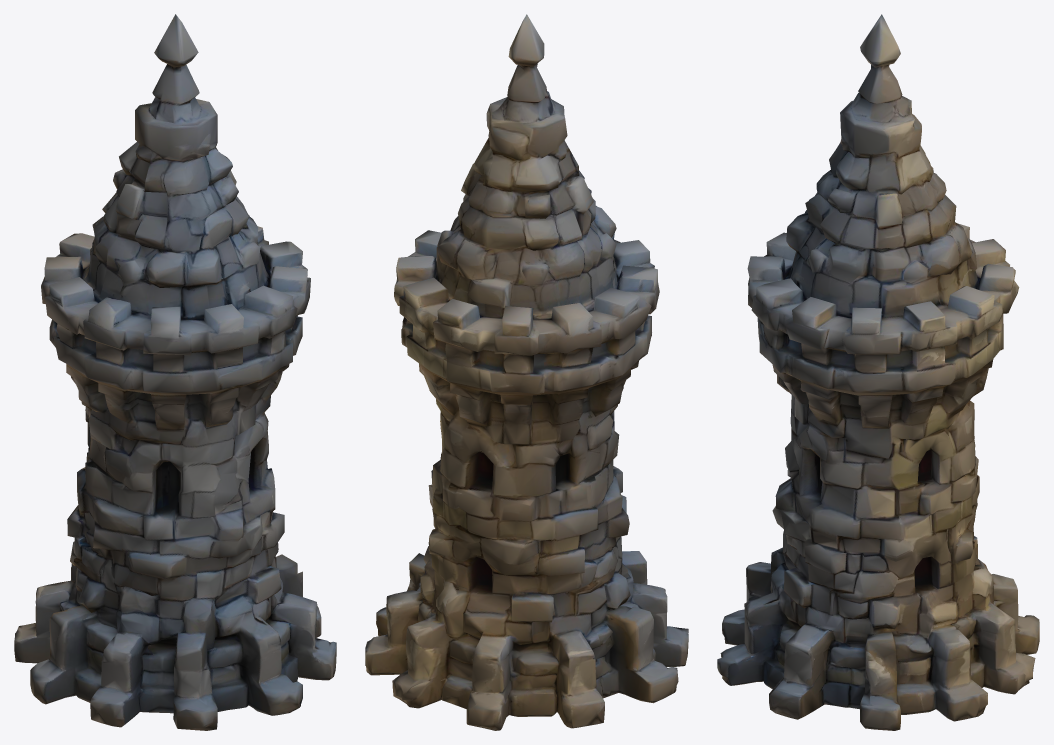
The model's file is castle_tower.glb.
3 views of the same model, side by side, from view 1: azimuth 30°, elevation 25°; view 2: azimuth 150°, elevation 25°; view 3: azimuth 270°, elevation 25° (orthographic).
Visible parts, largest first — view 1: tripo_node_b87c33a7-1003-4dfb-933d-77ecf8573fb4; view 2: tripo_node_b87c33a7-1003-4dfb-933d-77ecf8573fb4; view 3: tripo_node_b87c33a7-1003-4dfb-933d-77ecf8573fb4.
Boxes of the visible parts, <box> form: tripo_node_b87c33a7-1003-4dfb-933d-77ecf8573fb4: <box>14,14,336,730</box>; tripo_node_b87c33a7-1003-4dfb-933d-77ecf8573fb4: <box>365,14,688,730</box>; tripo_node_b87c33a7-1003-4dfb-933d-77ecf8573fb4: <box>717,14,1039,730</box>.
Size of the model in its own units: 0.4652 by 1 by 0.4511.
1 material, 1 textured.
